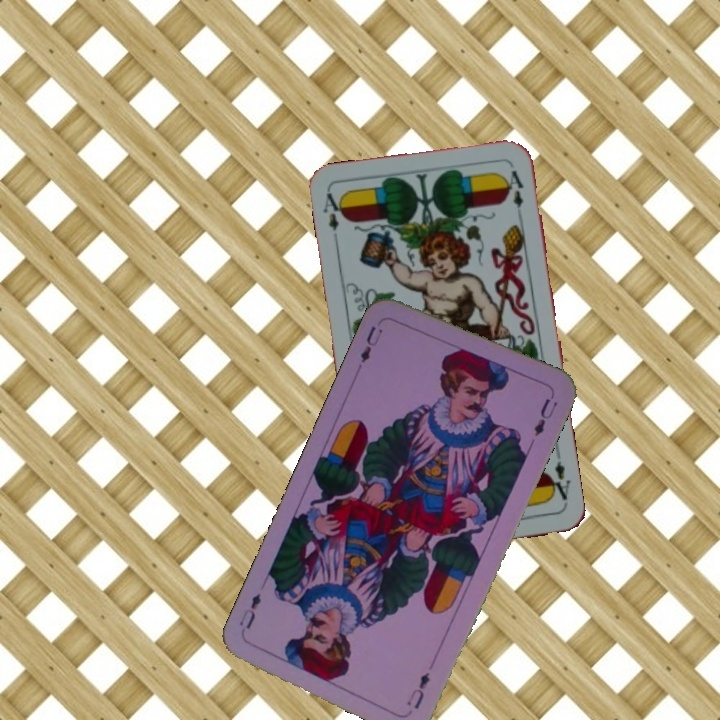EA: (544, 448, 573, 508), (319, 188, 348, 233)
EU: (353, 322, 386, 371), (402, 668, 433, 712)
